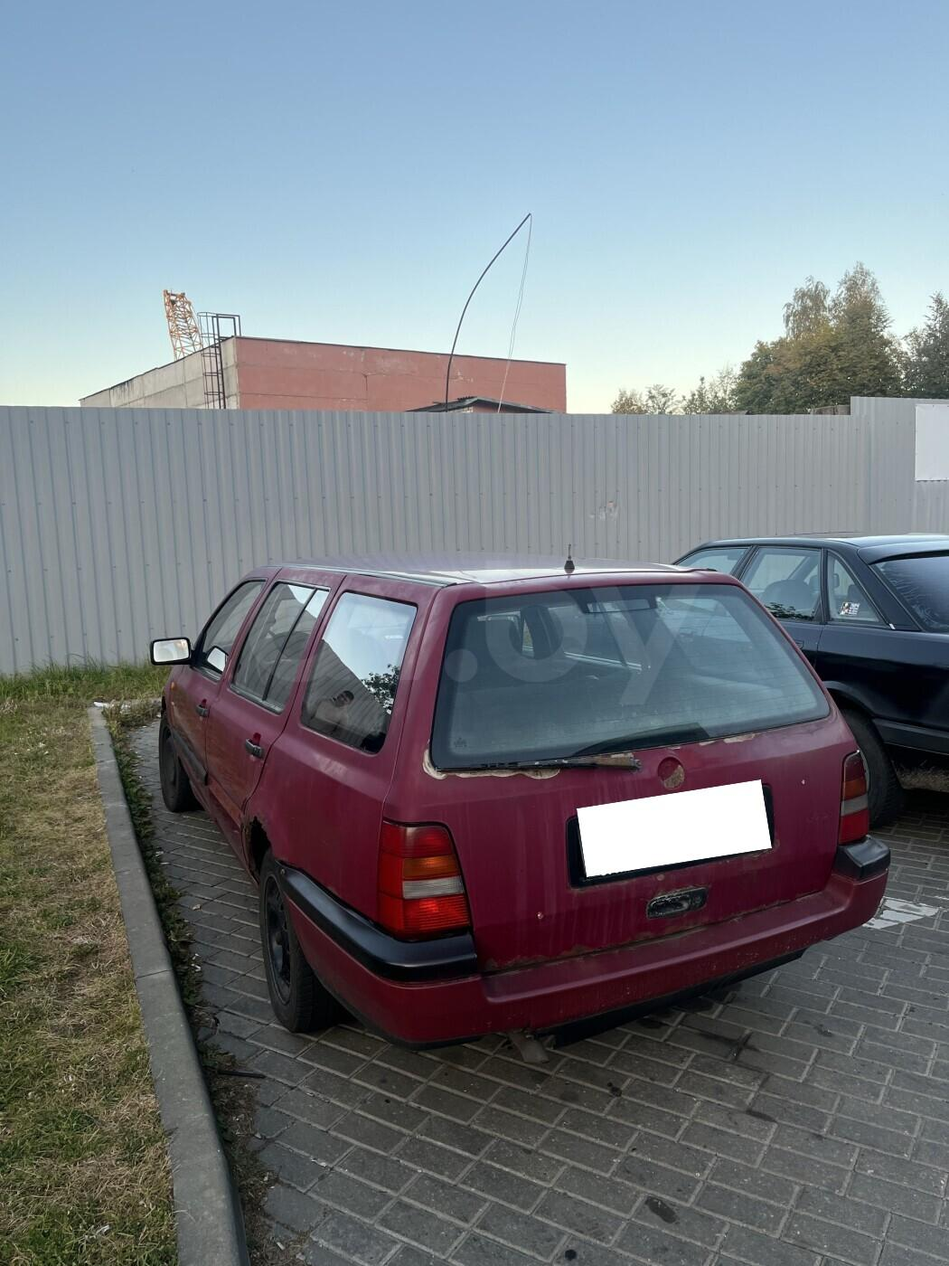Golf_1991-2000: (149, 554, 892, 1045)
